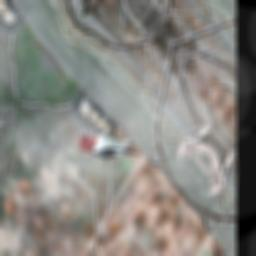Woodpecker: (69, 97, 145, 193)
